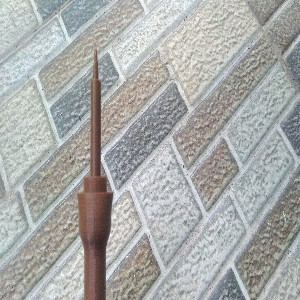solder: (76, 48, 113, 300)
